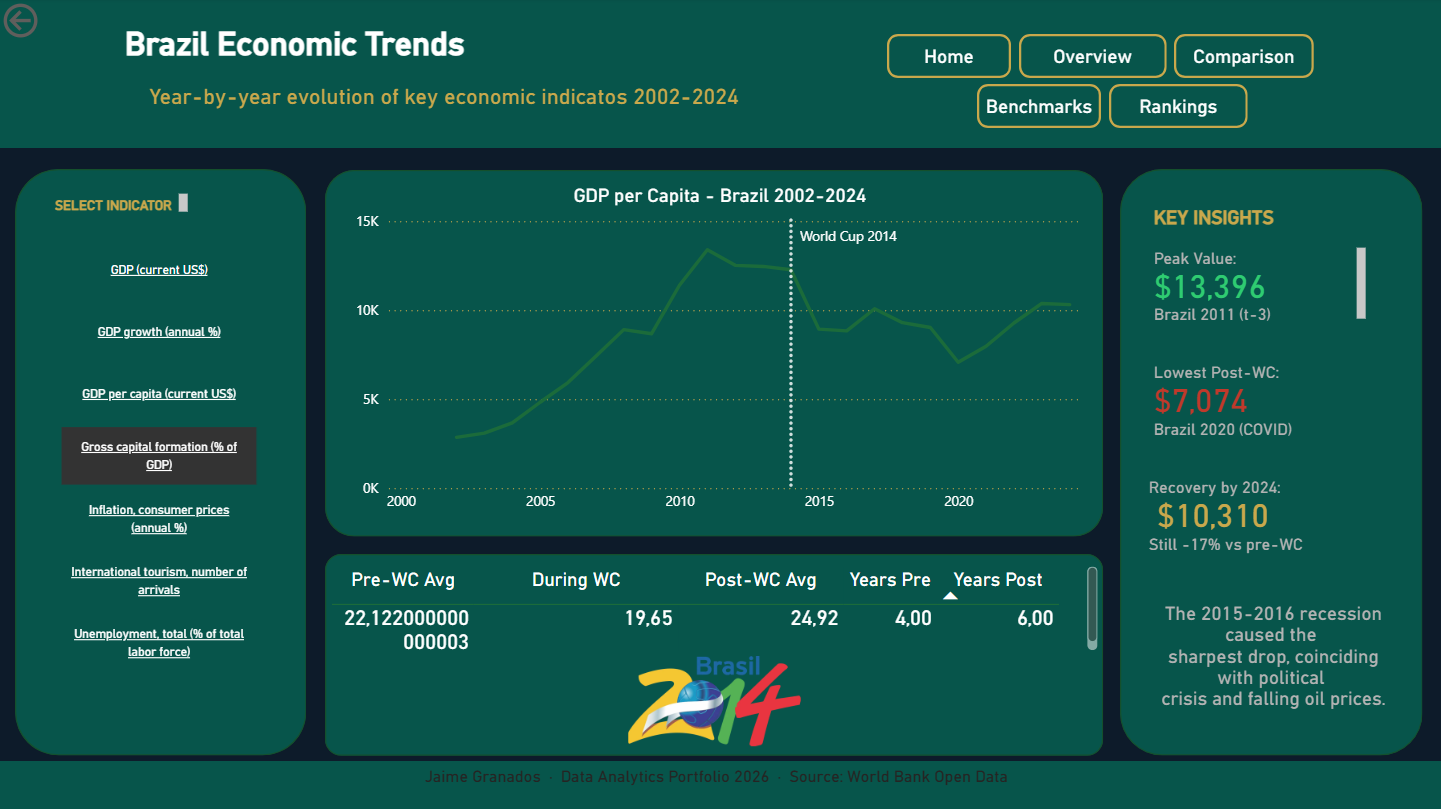

The dashboard page shown, as its layout file describes it:
{"tool":"powerbi","page":{"name":"Brazil Trends","canvas":[1280,720],"ordinal":2},"visuals":[{"type":"shape","box":[0,0,1280,133],"z":0},{"type":"textbox","box":[100,19,462,65],"z":1000},{"type":"textbox","box":[109,71,600,43],"z":2000},{"type":"shape","box":[15,151.7,258.3,520],"z":3000},{"type":"shape","box":[995,151.7,268.3,520],"z":4000},{"type":"shape","box":[290,152.5,690,325],"z":5000},{"type":"shape","box":[290,493.3,690,178.9],"z":6000},{"type":"textbox","box":[45,168.8,127.5,26.2],"z":7000},{"type":"slicer","fields":{"Values":["v_period_evolution.series_name"]},"box":[30,207.8,223.3,396.7],"z":8000},{"type":"lineChart","title":"GDP per Capita - Brazil 2002-2024","fields":{"Category":["v_all_countries_trends.year"],"Y":["Avg(v_all_countries_trends.gdp_per_capita)"]},"box":[312.1,164.9,656.2,299.7],"z":9000},{"type":"tableEx","fields":{"Values":["Avg(v_period_evolution.avg_during)","Avg(v_period_evolution.avg_post)","Avg(v_period_evolution.avg_pre)","Avg(v_period_evolution.n_pre)","Avg(v_period_evolution.n_post)"]},"box":[290,498.9,690,84.4],"z":10000},{"type":"actionButton","box":[0,0,100,40],"z":11000},{"type":"shape","box":[0,676.7,1280,43.3],"z":12000},{"type":"textbox","box":[251.1,676.7,772.2,43.3],"z":13000},{"type":"image","box":[306.7,583.3,656.7,80],"z":14000},{"type":"textbox","box":[1020,178.8,121.2,28.8],"z":15000},{"type":"textbox","box":[1020,216.2,197.5,82.5],"z":16000},{"type":"textbox","box":[1020,318.8,197.5,87.5],"z":17000},{"type":"textbox","box":[1015.6,420,197.8,78.9],"z":18000},{"type":"textbox","box":[1015,530,231.2,123.8],"z":19000},{"type":"actionButton","box":[905,32,131,39],"z":20000},{"type":"actionButton","box":[1043,32,124,39],"z":21000},{"type":"actionButton","box":[985,76,123,39],"z":22000},{"type":"actionButton","box":[868,76,110,39],"z":23000},{"type":"actionButton","box":[788,32,110,39],"z":24000}]}

Visuals, with their boxes in screenshot pixels (x1, y1, x2, y2), scaled from the page's 1280x720 canvas onto the 1441x809 screenshot:
shape: BBox(0, 0, 1440, 149)
textbox: BBox(113, 21, 633, 94)
textbox: BBox(123, 80, 798, 128)
shape: BBox(17, 170, 308, 755)
shape: BBox(1120, 170, 1422, 755)
shape: BBox(326, 171, 1103, 537)
shape: BBox(326, 554, 1103, 755)
textbox: BBox(51, 190, 194, 219)
slicer - v_period_evolution.series_name: BBox(34, 233, 285, 679)
"GDP per Capita - Brazil 2002-2024" lineChart: BBox(351, 185, 1090, 522)
tableEx - Avg(v_period_evolution.avg_during) x Avg(v_period_evolution.avg_post): BBox(326, 561, 1103, 655)
actionButton: BBox(0, 0, 113, 45)
shape: BBox(0, 760, 1440, 808)
textbox: BBox(283, 760, 1152, 808)
image: BBox(345, 655, 1085, 745)
textbox: BBox(1148, 201, 1285, 233)
textbox: BBox(1148, 243, 1371, 336)
textbox: BBox(1148, 358, 1371, 457)
textbox: BBox(1143, 472, 1366, 561)
textbox: BBox(1143, 596, 1403, 735)
actionButton: BBox(1019, 36, 1166, 80)
actionButton: BBox(1174, 36, 1314, 80)
actionButton: BBox(1109, 85, 1247, 129)
actionButton: BBox(977, 85, 1101, 129)
actionButton: BBox(887, 36, 1011, 80)
